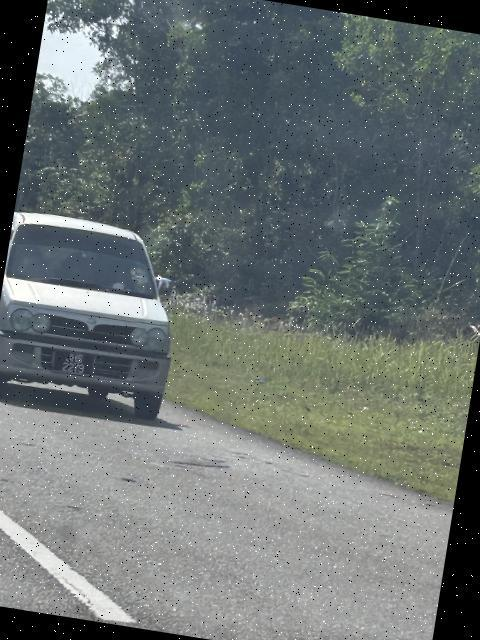JHS2279: (50, 347, 99, 380)
License_Plate: (50, 347, 99, 380)
car: (1, 205, 194, 429)
